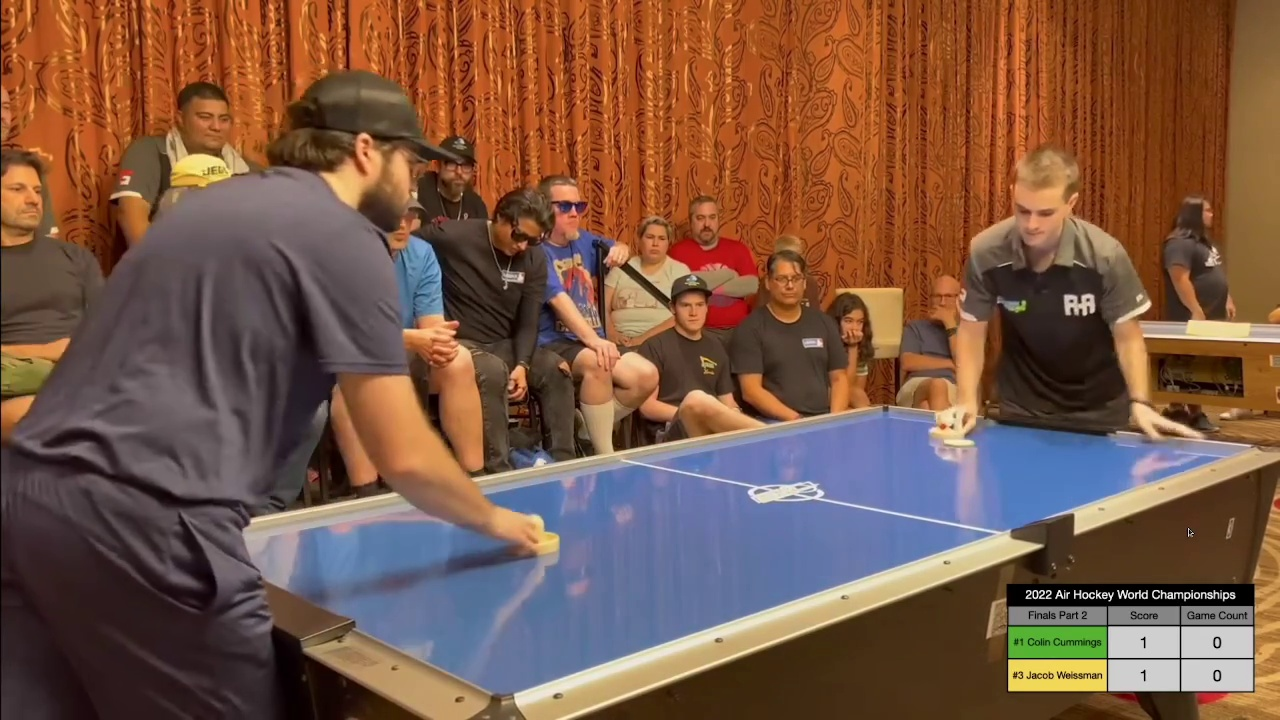player: (509, 512, 566, 555), (924, 412, 971, 439)
puck: (947, 438, 973, 451)
table: (192, 406, 1280, 701)
